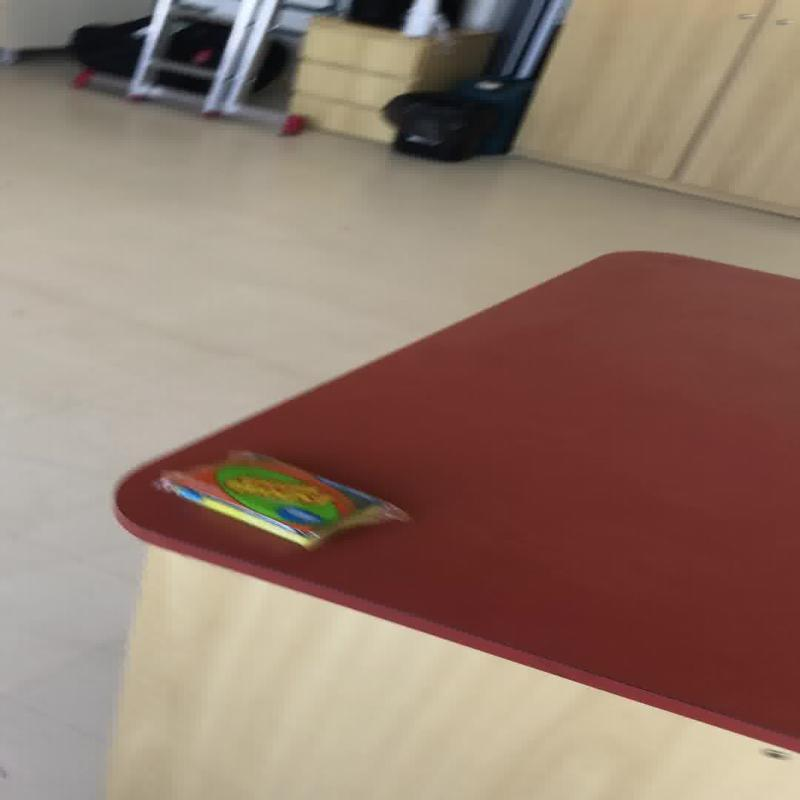sponge: (154, 448, 410, 552)
